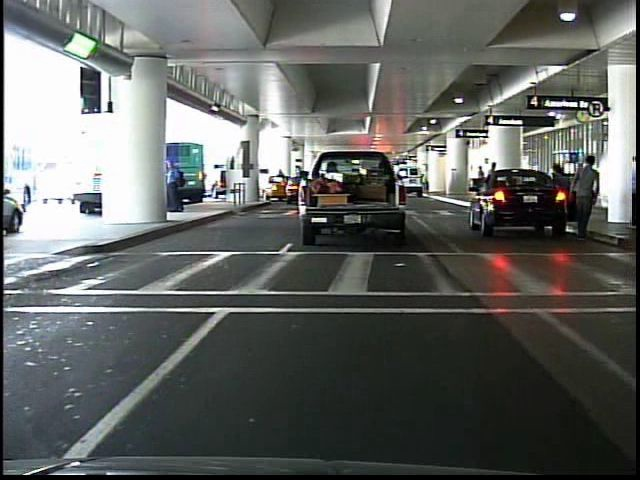person: (565, 153, 606, 242), (165, 149, 189, 216)
